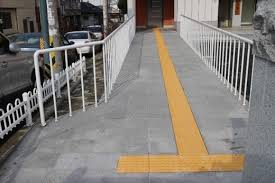guide_blocks: (117, 154, 243, 171), (172, 106, 208, 154), (161, 63, 188, 105), (157, 39, 172, 62), (153, 29, 162, 40)
